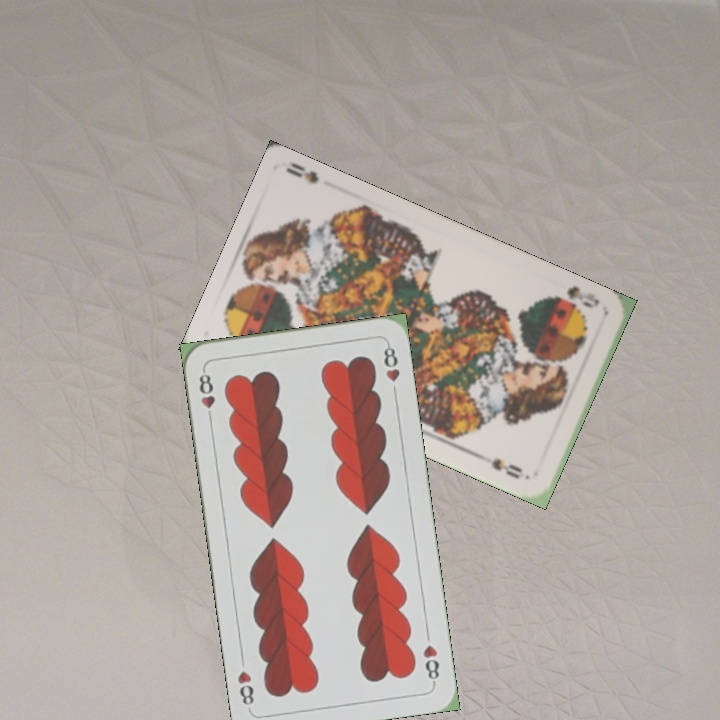H8: (195, 365, 218, 425), (419, 640, 442, 687)
SO: (562, 282, 602, 311)
